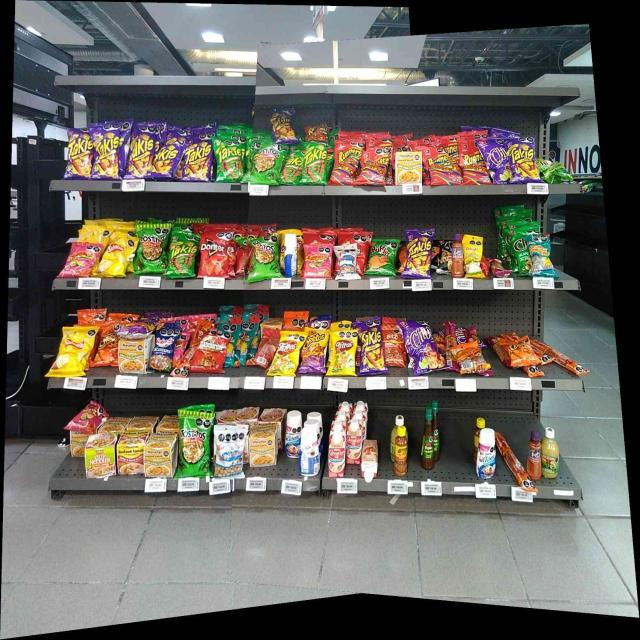bitzEnchilado90: (383, 327, 403, 366)
bitzEnchilado95: (498, 434, 524, 489), (554, 351, 590, 377)
bitzHabanero: (441, 321, 460, 344)
bokadosCacahuates: (151, 331, 173, 371)
botaneraChilito: (392, 428, 407, 475)
cheetosFlaminHot: (302, 327, 326, 374)
cheetosOriginal: (502, 341, 536, 367), (96, 325, 116, 366)
chipsFuego: (405, 320, 439, 373), (484, 136, 504, 183)
chipsJalapeno: (513, 234, 528, 276)
churrumais: (68, 243, 96, 277), (304, 243, 330, 279), (72, 404, 101, 431)
delPrimoSalsa: (544, 426, 558, 479)
doritosNacho: (199, 233, 229, 278)
fritosLimon: (328, 331, 356, 376), (274, 332, 296, 376)
leoCacahuates: (213, 425, 244, 478), (334, 245, 356, 280)
maruchanPollo: (146, 434, 177, 479), (249, 424, 276, 466), (119, 340, 148, 376), (395, 151, 422, 185)
maruchanRes: (117, 433, 144, 475)
nestleCarnation: (363, 440, 378, 483), (330, 433, 344, 477), (347, 424, 360, 464)
nestleLechera: (477, 430, 494, 479), (301, 431, 319, 476), (284, 412, 298, 458), (284, 233, 297, 277)
nissinCamaron: (86, 436, 116, 477)
productoAtras: (451, 346, 483, 372), (252, 331, 272, 367)
rancheritos: (193, 332, 226, 372)
rufflesQueso: (368, 238, 397, 276)
runners: (425, 147, 459, 186), (333, 141, 360, 182), (362, 148, 388, 183), (461, 146, 482, 184)
sabritasOriginal: (54, 329, 92, 377), (101, 237, 129, 276)
salsaBufalo: (422, 408, 435, 466)
semillasCalabaza: (465, 234, 483, 277)
semillasGirasol: (530, 234, 550, 277)
tajinDulce: (526, 432, 542, 480), (452, 234, 463, 276)
takisFuego: (94, 127, 121, 178), (508, 138, 537, 182), (67, 129, 92, 180), (357, 322, 381, 375), (184, 137, 211, 182), (129, 129, 153, 177), (406, 230, 430, 278), (155, 142, 179, 179), (272, 113, 295, 142)
takisOriginal: (212, 140, 245, 182), (171, 235, 196, 280), (305, 146, 327, 184), (282, 151, 302, 185)
tostitos: (178, 410, 210, 478), (137, 224, 167, 274), (247, 237, 278, 279), (251, 147, 279, 184)
